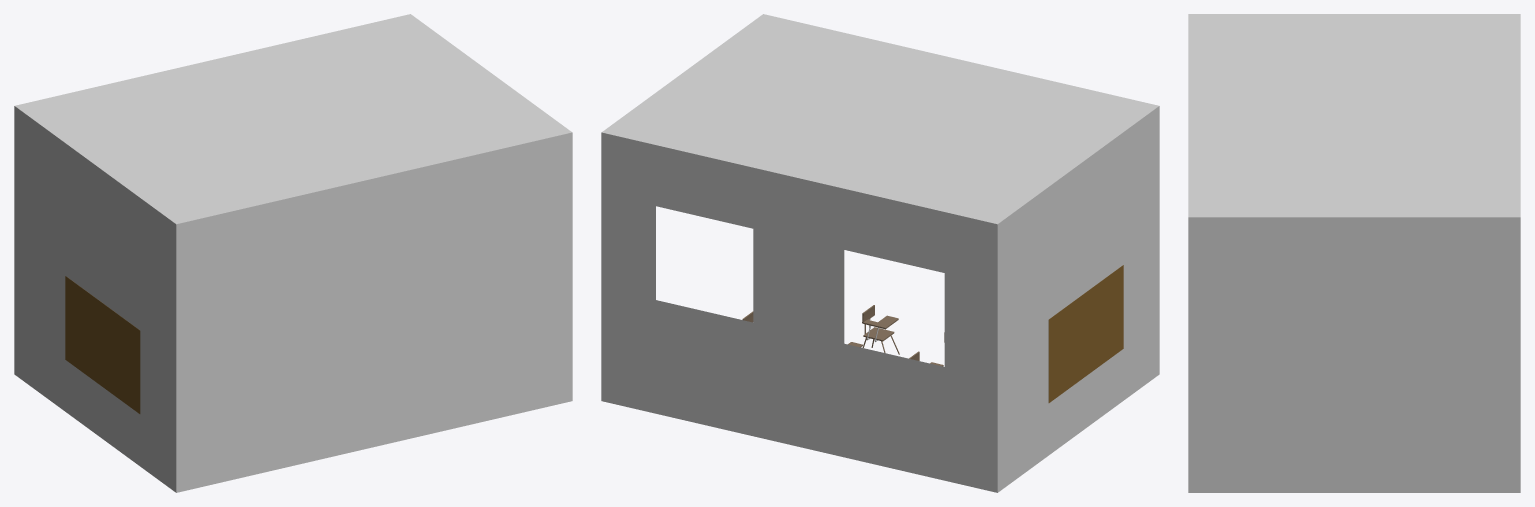
Rendered from Classroom.gltf.
3 renders of one model, left to right at view 1: azimuth 30°, elevation 25°; view 2: azimuth 150°, elevation 25°; view 3: azimuth 270°, elevation 25°, orthographic. The views are drawn at different scales.
Visible parts, largest first — view 1: Chair.004; view 2: Chair.004; view 3: Chair.004.
Boxes of the visible parts, x1,y1,x2,y2 form: Chair.004: (14, 14, 572, 492); Chair.004: (601, 14, 1159, 492); Chair.004: (1188, 14, 1520, 492).
Size of the model in its own units: 37.51 by 24.73 by 26.53.
